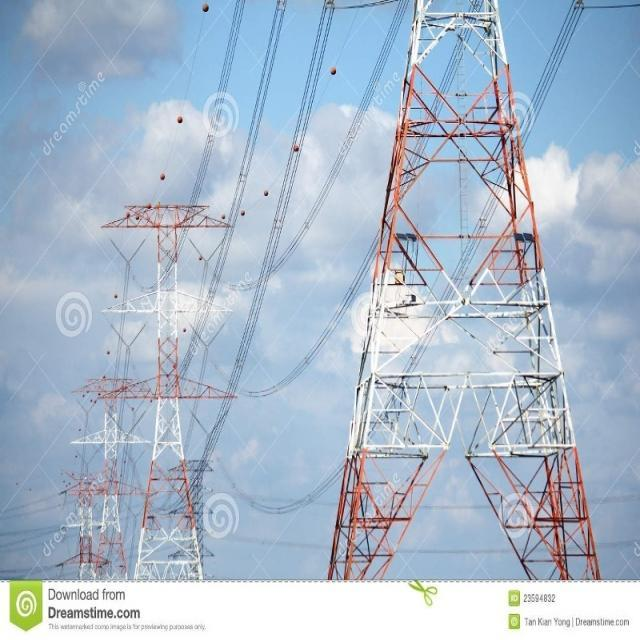non-critical vegetation: (356, 14, 587, 542), (123, 199, 228, 564), (80, 372, 150, 587)
